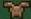breastplate: (1, 0, 31, 19)
